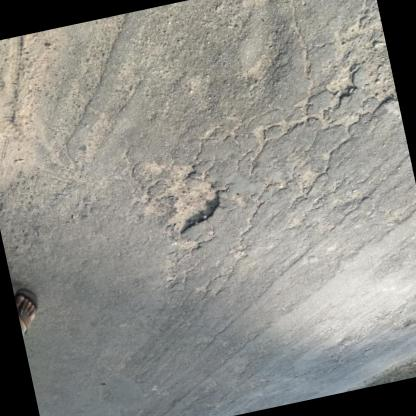pothole: (152, 164, 226, 240), (322, 63, 362, 102)
